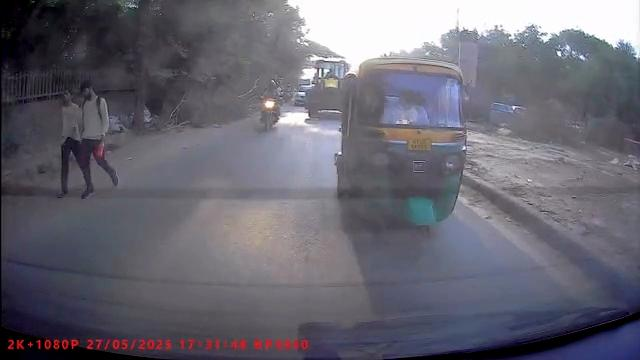motorcycle_with_helmet: (260, 80, 281, 132)
